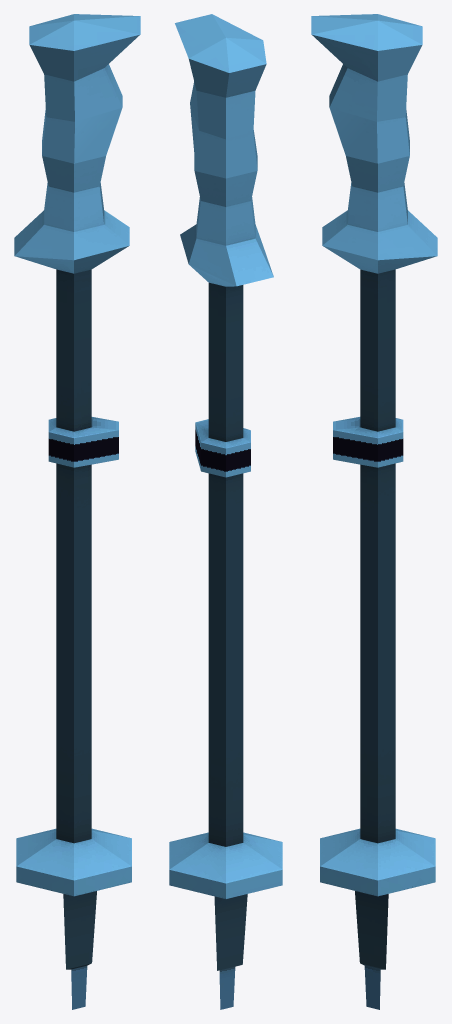
File: item_skipole.glb
3 views of the same model, side by side, from view 1: azimuth 90°, elevation 25°; view 2: azimuth 210°, elevation 25°; view 3: azimuth 270°, elevation 25° (orthographic).
Parts seen in each view (by area): view 1: SkiStick; view 2: SkiStick; view 3: SkiStick.
Boxes of the visible parts, left/top/right/bottom form: SkiStick: left=14, top=14, right=140, bottom=1009; SkiStick: left=169, top=14, right=282, bottom=1009; SkiStick: left=311, top=14, right=437, bottom=1009.
Bounding box in the file's own units: 0.0862 × 0.7038 × 0.0815.
Materials: 1 (1 with a texture image).
